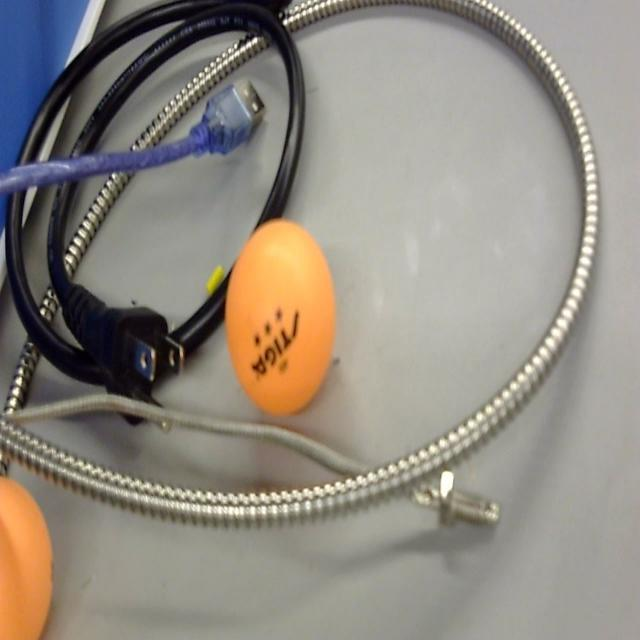ball: (224, 215, 338, 420), (0, 471, 54, 640)
